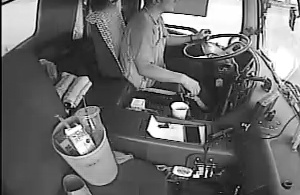paper: (143, 113, 207, 147)
